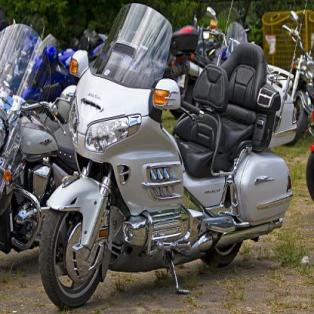Motocicleta: (35, 44, 290, 304)
